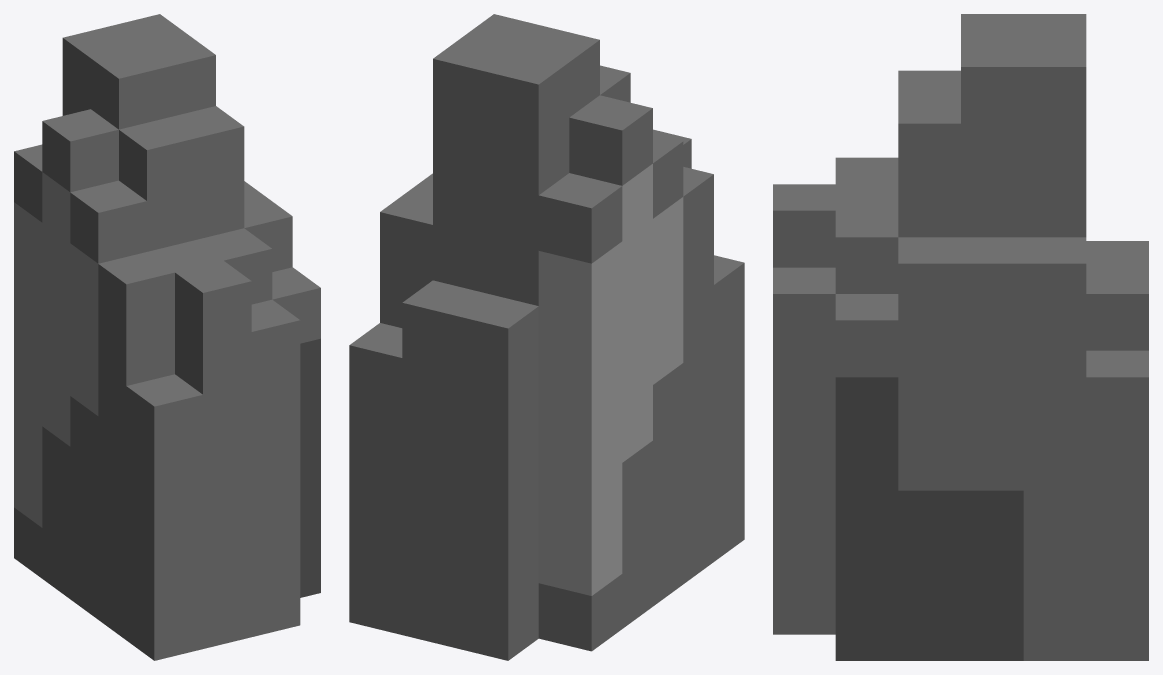
The model's file is Golem Arm 2.obj.
3 views of the same model, side by side, from view 1: azimuth 30°, elevation 25°; view 2: azimuth 150°, elevation 25°; view 3: azimuth 270°, elevation 25° (orthographic). The views are drawn at different scales.
Bounding box in the file's own units: 4 × 10 × 6.
Materials: 1 (1 with a texture image).
